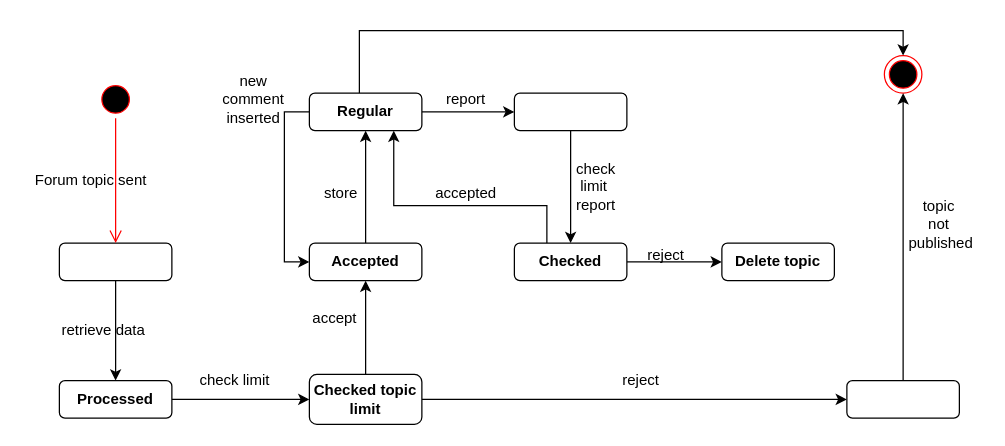
This 1005x446 diagram has some shape labels left out. Each missing label, with the box of its shape:
Rejected: (846, 379, 959, 418)
Store report: (513, 92, 627, 131)
Unprocessed: (58, 242, 172, 281)
